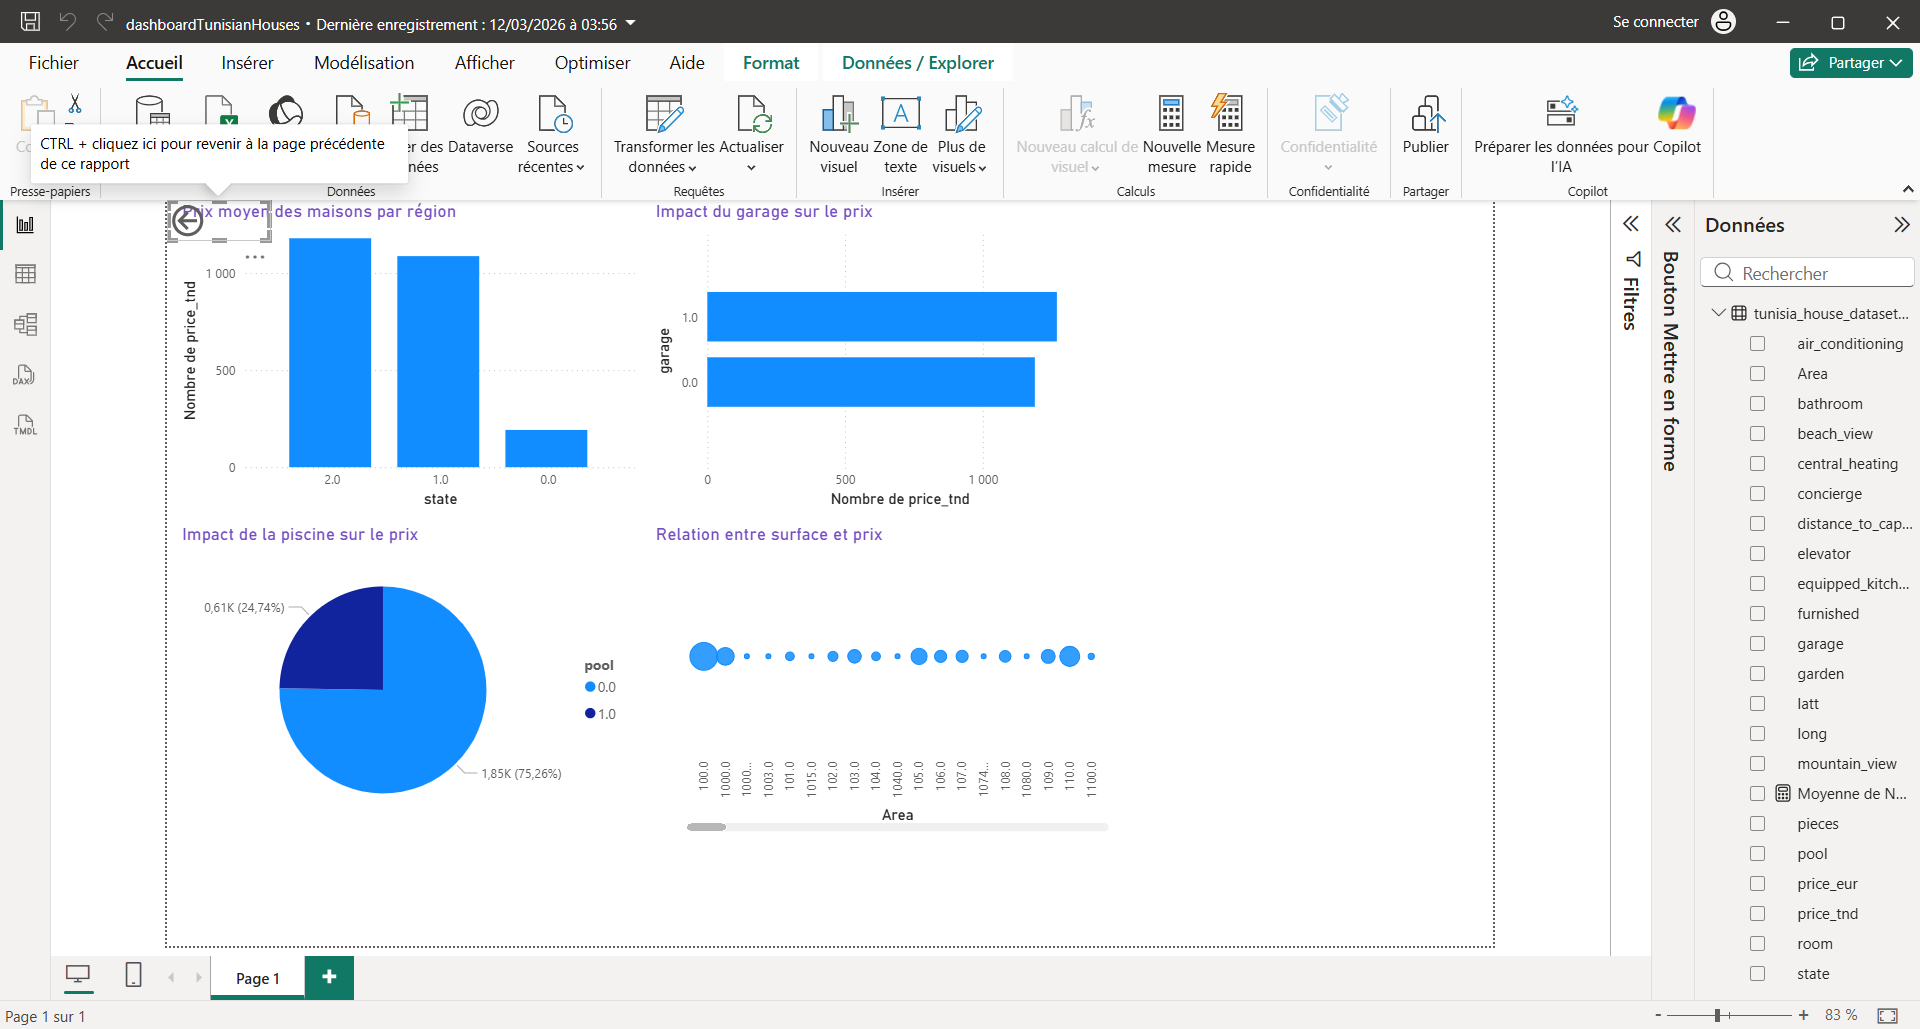

The dashboard page shown, as its layout file describes it:
{"tool":"powerbi","page":{"name":"Page 1","canvas":[1280,720],"ordinal":0},"visuals":[{"type":"clusteredColumnChart","title":"Prix moyen des maisons par région","fields":{"Category":["tunisia_house_dataset_clean.state"],"Y":["CountNonNull(tunisia_house_dataset_clean.price_tnd)"]},"box":[9.6,0,447.3,301.9],"z":0},{"type":"pieChart","title":"Impact de la piscine sur le prix","fields":{"Category":["tunisia_house_dataset_clean.pool"],"Y":["CountNonNull(tunisia_house_dataset_clean.price_tnd)"]},"box":[10,312,447,302],"z":1000},{"type":"clusteredBarChart","title":"Impact du garage sur le prix","fields":{"Category":["tunisia_house_dataset_clean.garage"],"Y":["CountNonNull(tunisia_house_dataset_clean.price_tnd)"]},"box":[467,0,447,302],"z":2000},{"type":"scatterChart","title":"Relation entre surface et prix","fields":{"X":["tunisia_house_dataset_clean.Area"],"Size":["CountNonNull(tunisia_house_dataset_clean.price_tnd)"]},"box":[467,312,447,302],"z":3000},{"type":"actionButton","box":[0,0,100,40],"z":4000}]}

Visuals, with their boxes on the page's 1280x720 design canvas (x1, y1, x2, y2). These are canvas units, not pixel positions in the 1920x1029 screenshot, which may show the page scaled, cropped or inside an application window:
"Prix moyen des maisons par région" clusteredColumnChart: bbox=(10, 0, 457, 302)
"Impact de la piscine sur le prix" pieChart: bbox=(10, 312, 457, 614)
"Impact du garage sur le prix" clusteredBarChart: bbox=(467, 0, 914, 302)
"Relation entre surface et prix" scatterChart: bbox=(467, 312, 914, 614)
actionButton: bbox=(0, 0, 100, 40)
